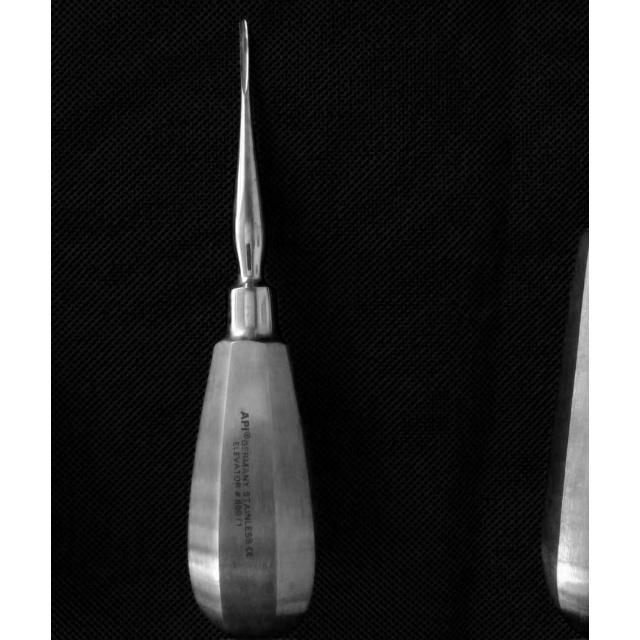botador: (186, 17, 316, 635)
